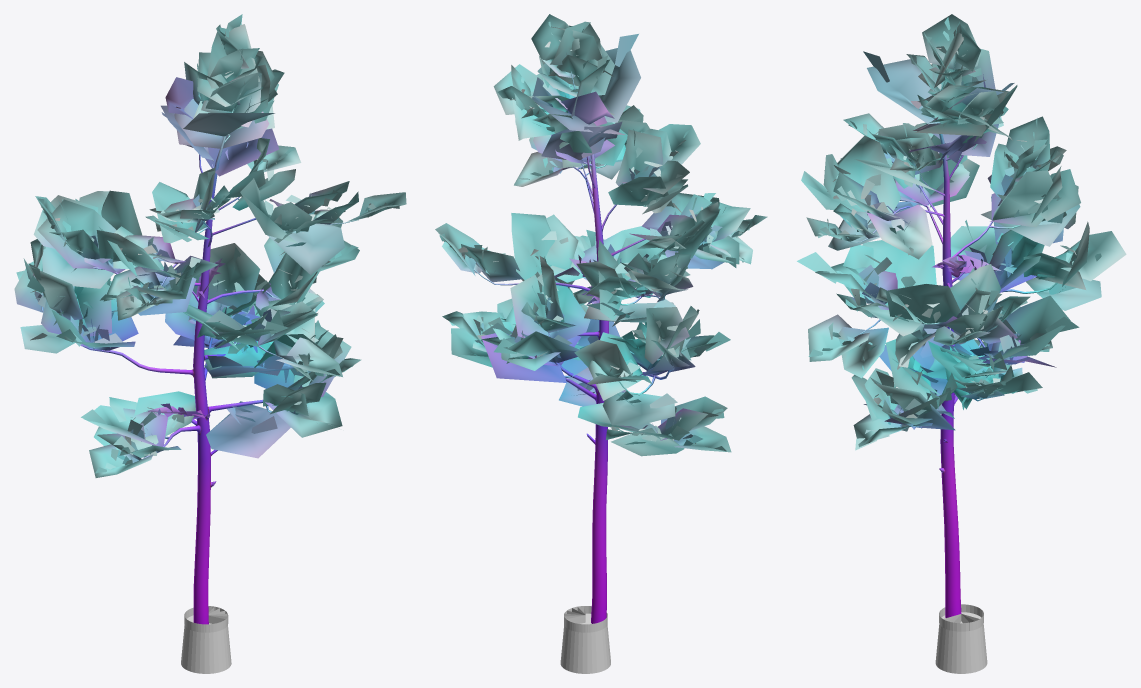
File: KIT_PineBig3.fbx
3 views of the same model, side by side, from view 1: azimuth 30°, elevation 25°; view 2: azimuth 150°, elevation 25°; view 3: azimuth 270°, elevation 25° (orthographic). The views are drawn at different scales.
Visible parts, largest first — view 1: Upper_LOD0, Stump_LOD0; view 2: Upper_LOD0, Stump_LOD0; view 3: Upper_LOD0, Stump_LOD0.
Boxes of the visible parts, x1,y1,x2,y2 form: Upper_LOD0: [14, 14, 406, 624]; Stump_LOD0: [181, 616, 231, 673]; Upper_LOD0: [435, 14, 767, 623]; Stump_LOD0: [560, 613, 610, 673]; Upper_LOD0: [797, 14, 1126, 617]; Stump_LOD0: [935, 612, 987, 673].
Size of what is drawn, in the model's own units: 746 by 1544 by 705.
